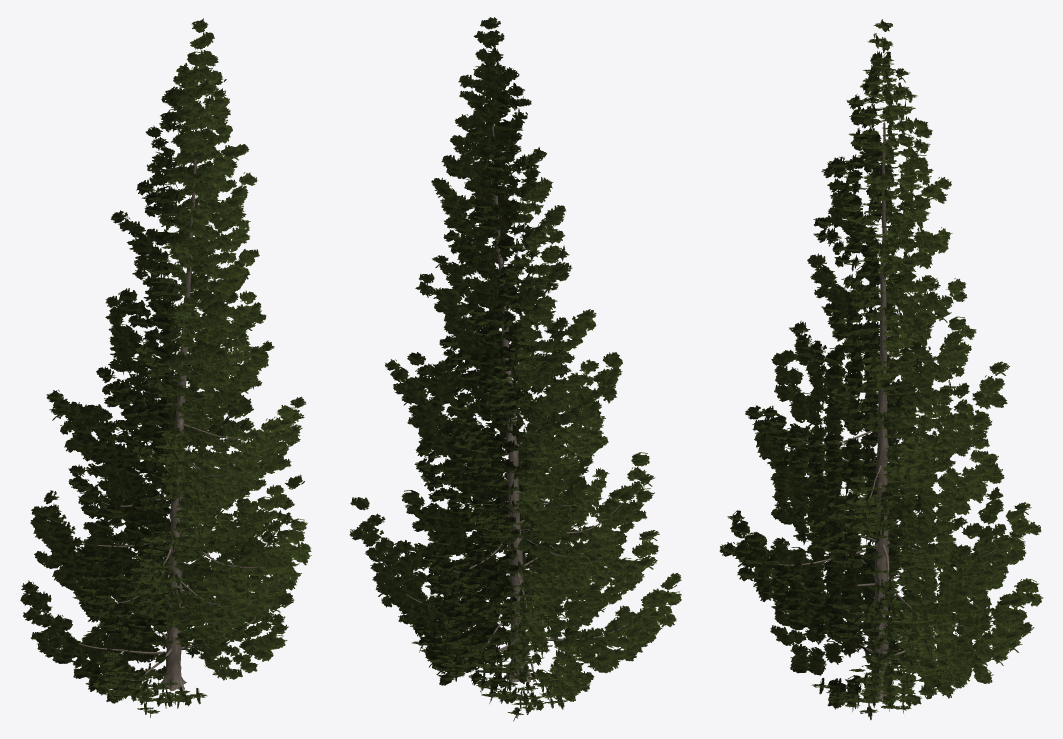
Rendered from norway_spruce_b.glb.
3 views of the same model, side by side, from view 1: azimuth 30°, elevation 25°; view 2: azimuth 150°, elevation 25°; view 3: azimuth 270°, elevation 25° (orthographic). The views are drawn at different scales.
Parts seen in each view (by area): view 1: norway_spruce_b_LOD0; view 2: norway_spruce_b_LOD0; view 3: norway_spruce_b_LOD0.
Part boxes in pixels (<box>): norway_spruce_b_LOD0: <box>20,18,311,717</box>; norway_spruce_b_LOD0: <box>349,17,681,721</box>; norway_spruce_b_LOD0: <box>719,19,1043,720</box>.
Size of what is drawn, in the model's own units: 4.31 by 9.82 by 4.26.
Materials: 2 (2 with a texture image).
